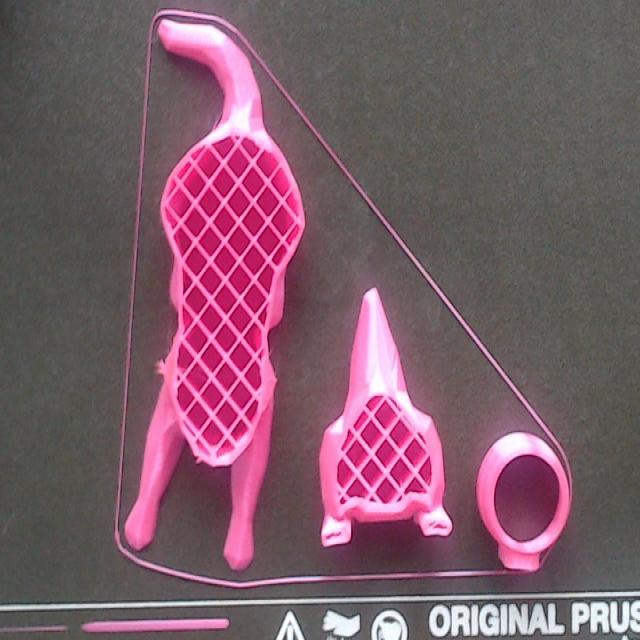mistake: (156, 364, 164, 375)
